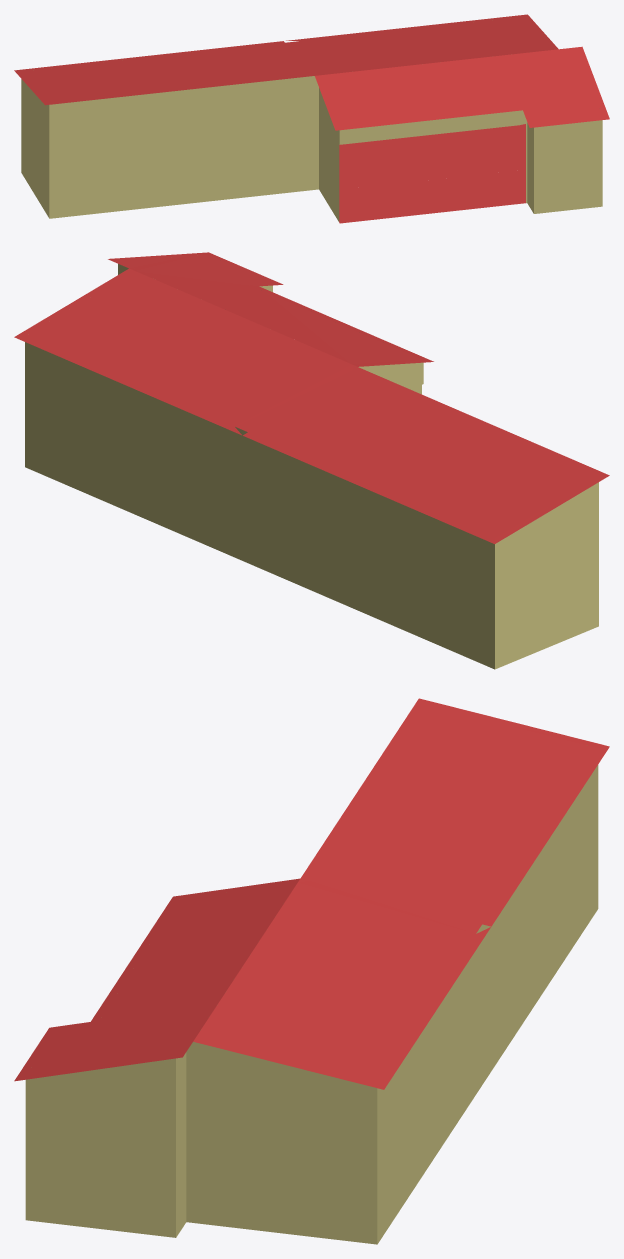
The picture shows the model from 3 angles, top to bottom: view 1: azimuth 30°, elevation 25°; view 2: azimuth 150°, elevation 25°; view 3: azimuth 270°, elevation 25°; orthographic projection. The views are drawn at different scales.
Bounding box in the file's own units: 45.31 × 31.2 × 10.71.
